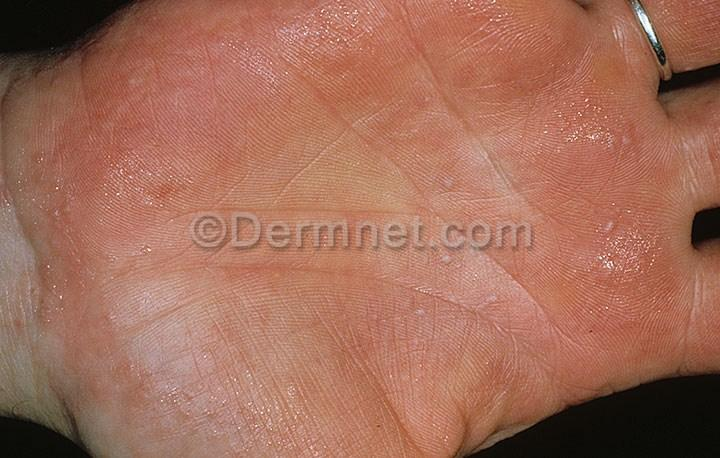Eczema: (166, 252, 541, 440), (393, 0, 634, 214), (191, 33, 408, 196), (19, 245, 175, 445), (536, 212, 699, 381), (11, 100, 196, 238), (71, 10, 189, 92), (192, 0, 399, 31)
